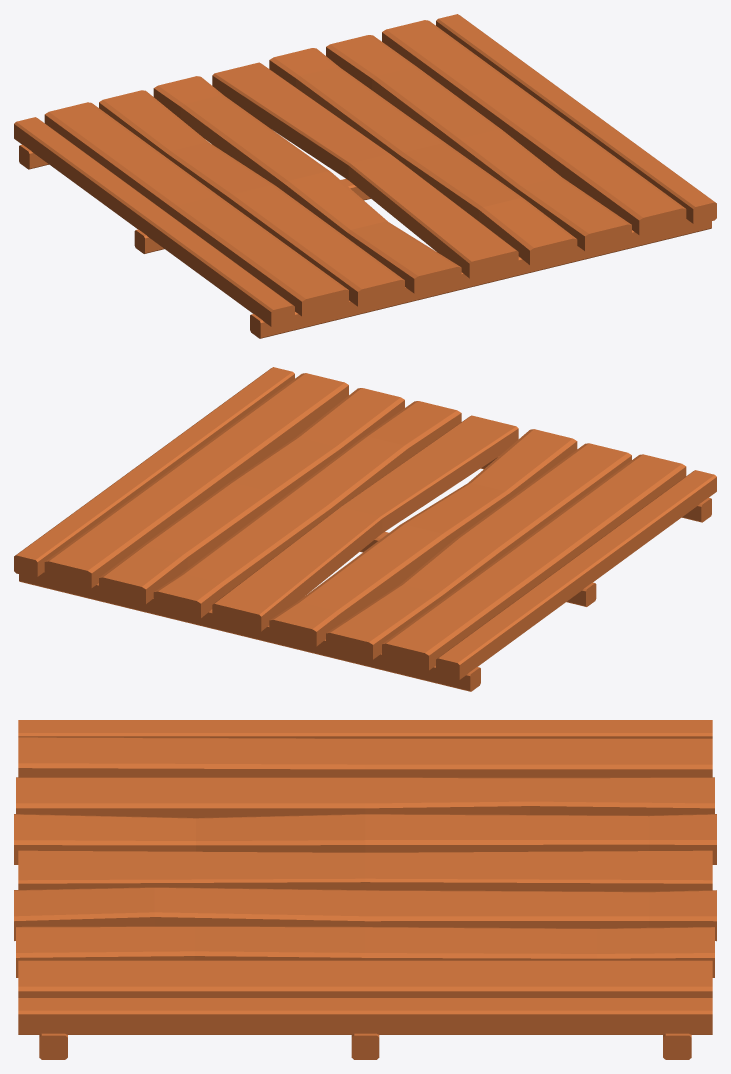
The model's file is Wood Floor 2.glb.
3 renders of one model, top to bottom at view 1: azimuth 30°, elevation 25°; view 2: azimuth 150°, elevation 25°; view 3: azimuth 270°, elevation 25°, orthographic. The views are drawn at different scales.
Visible parts, largest first — view 1: WoodFloor1; view 2: WoodFloor1; view 3: WoodFloor1.
Part boxes in pixels (x1,y1,x2,y2): WoodFloor1: (14,14,716,338); WoodFloor1: (14,367,716,691); WoodFloor1: (14,720,716,1059).
Bounding box in the file's own units: 2 × 0.1565 × 2.
